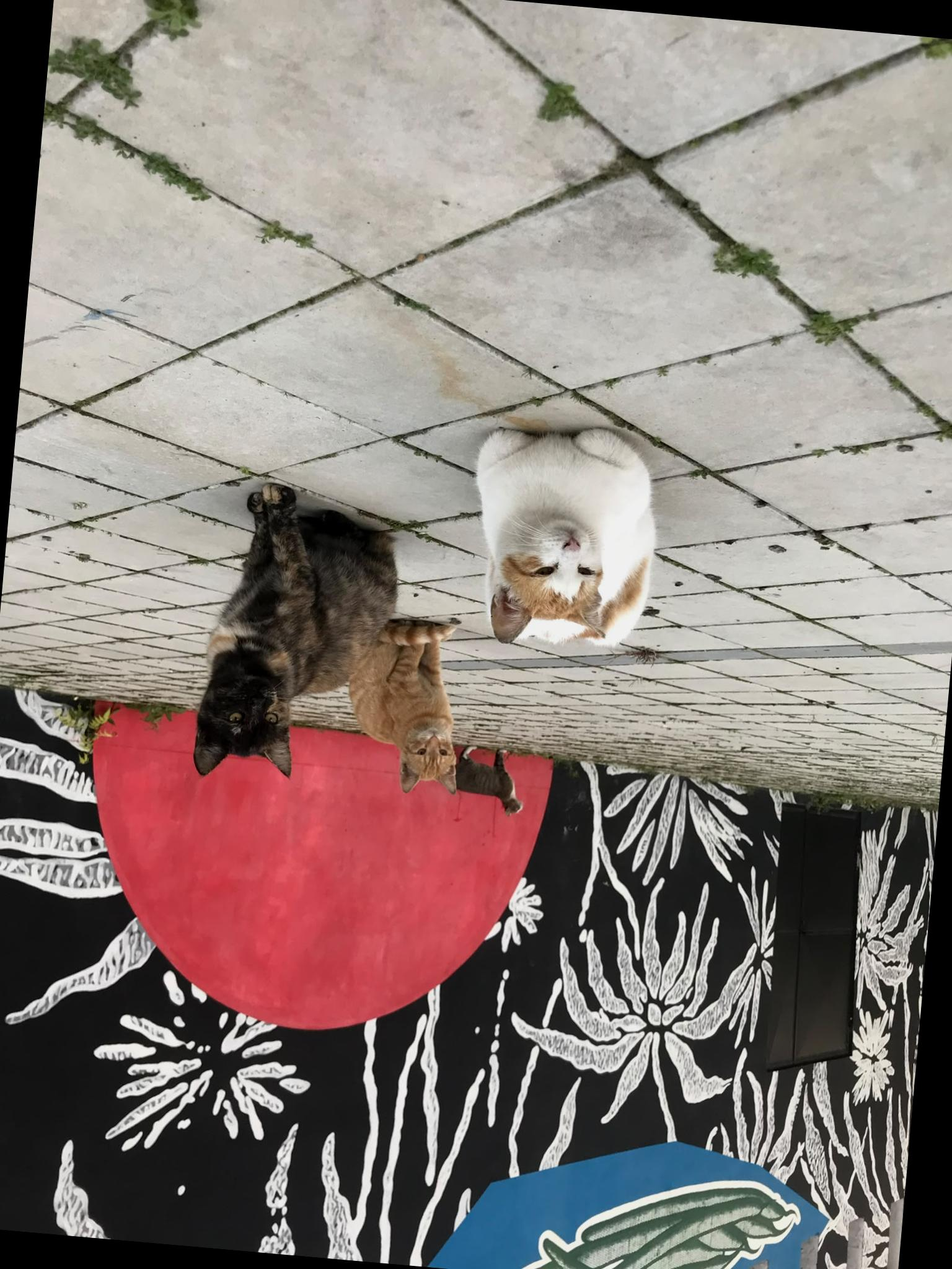macka: (188, 478, 405, 794), (462, 419, 669, 658), (340, 617, 470, 797), (453, 745, 528, 818)
